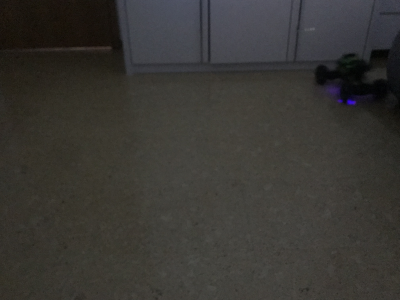remote control car: (307, 47, 388, 105)
